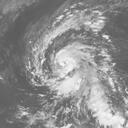cyclone: (23, 4, 114, 101)
